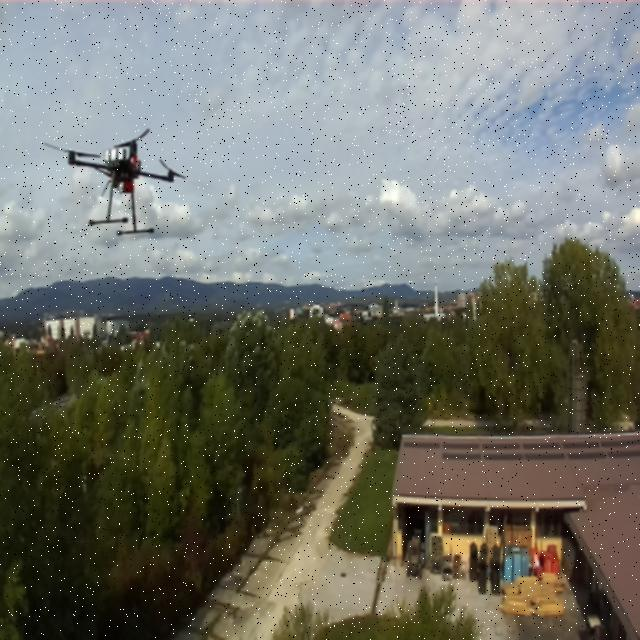UAV: (50, 123, 192, 240)
